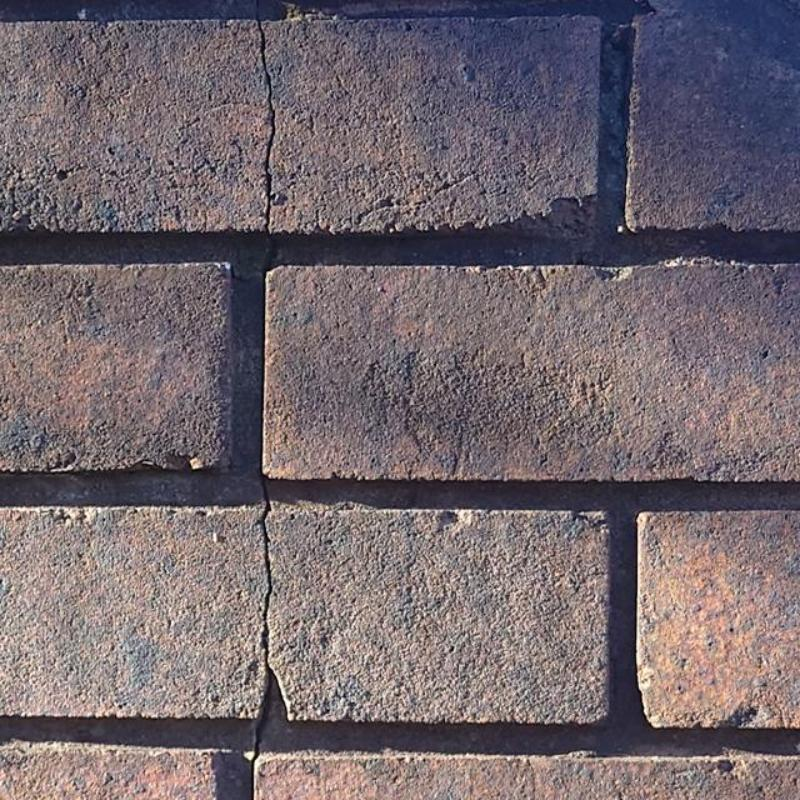crack: (254, 0, 277, 270), (255, 475, 275, 672), (250, 702, 270, 799)
